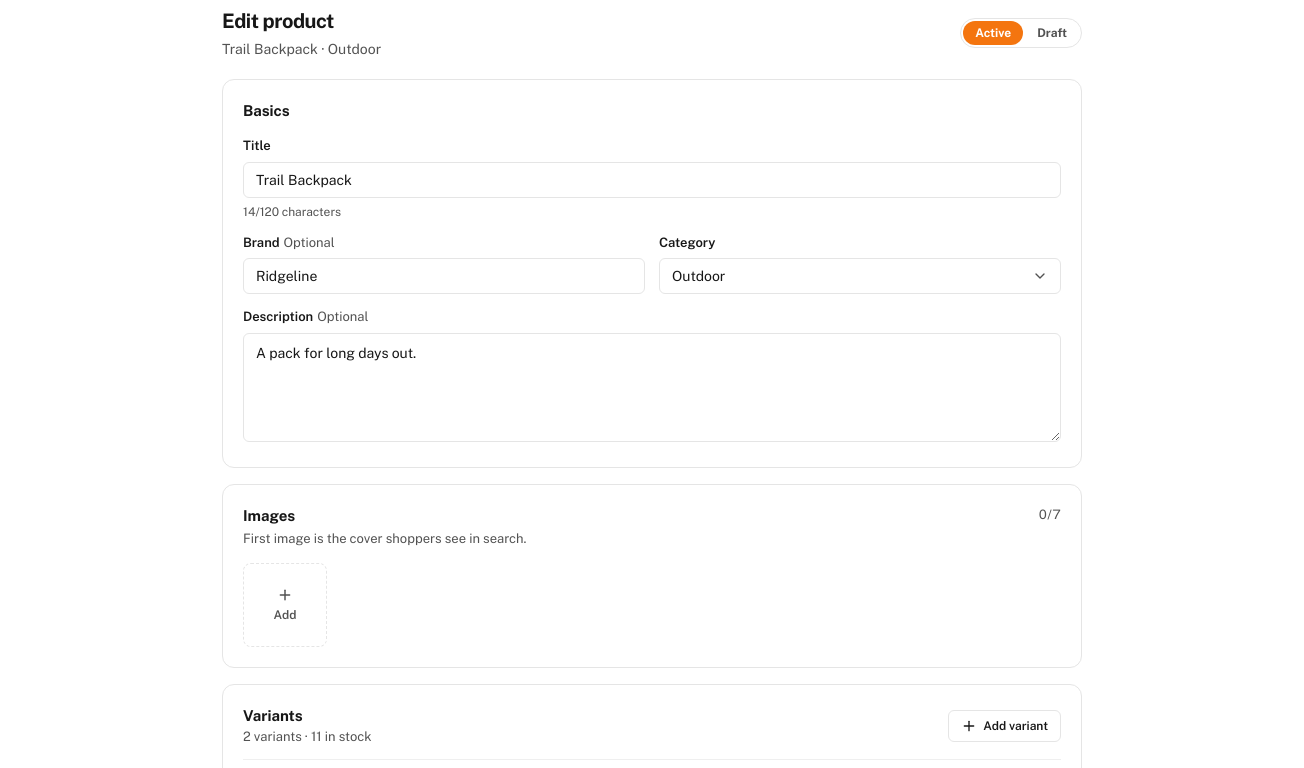
Test: when the product form can be saved › names what is still missing instead of only greying the button out
Clear the field labelled "Title". click: (652, 180)
box: [243, 162, 1061, 198]
(page scrolled)
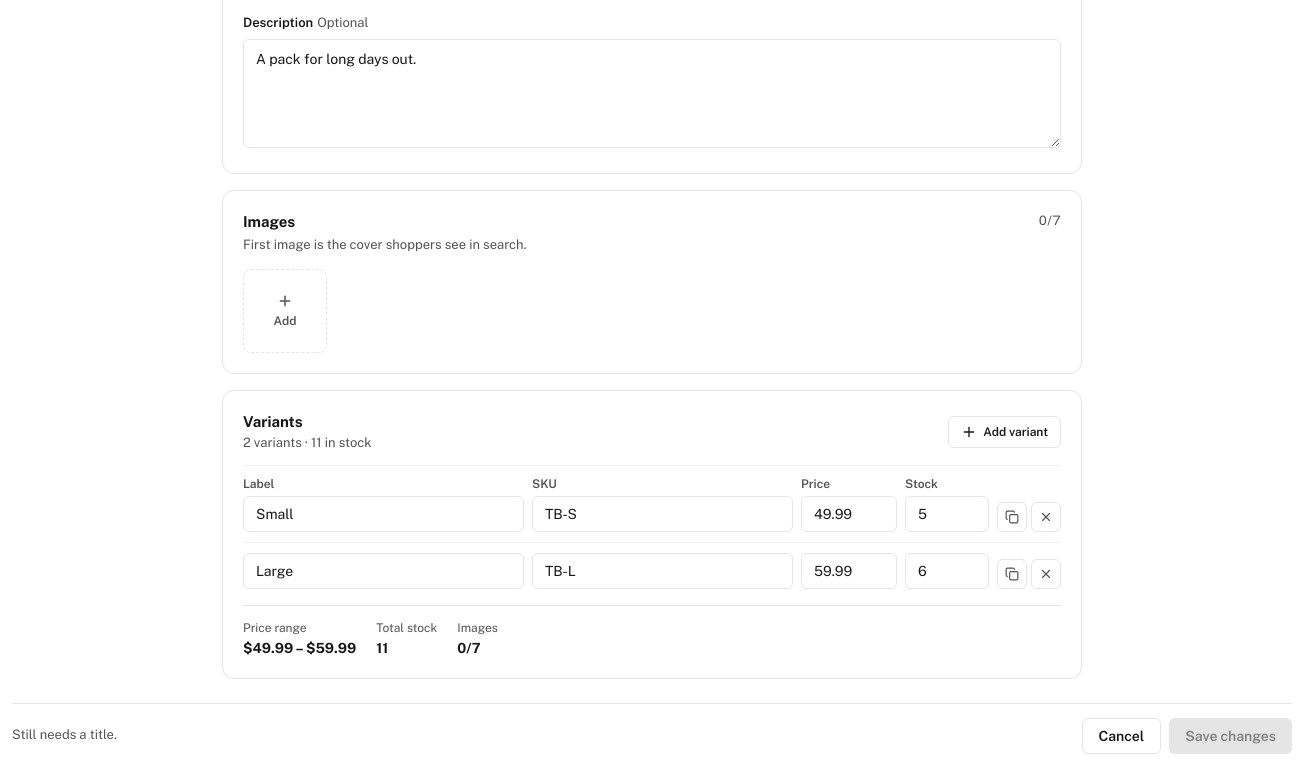
Clear the number field named "Variant 1 price". click: (849, 514)
box: [801, 496, 897, 532]
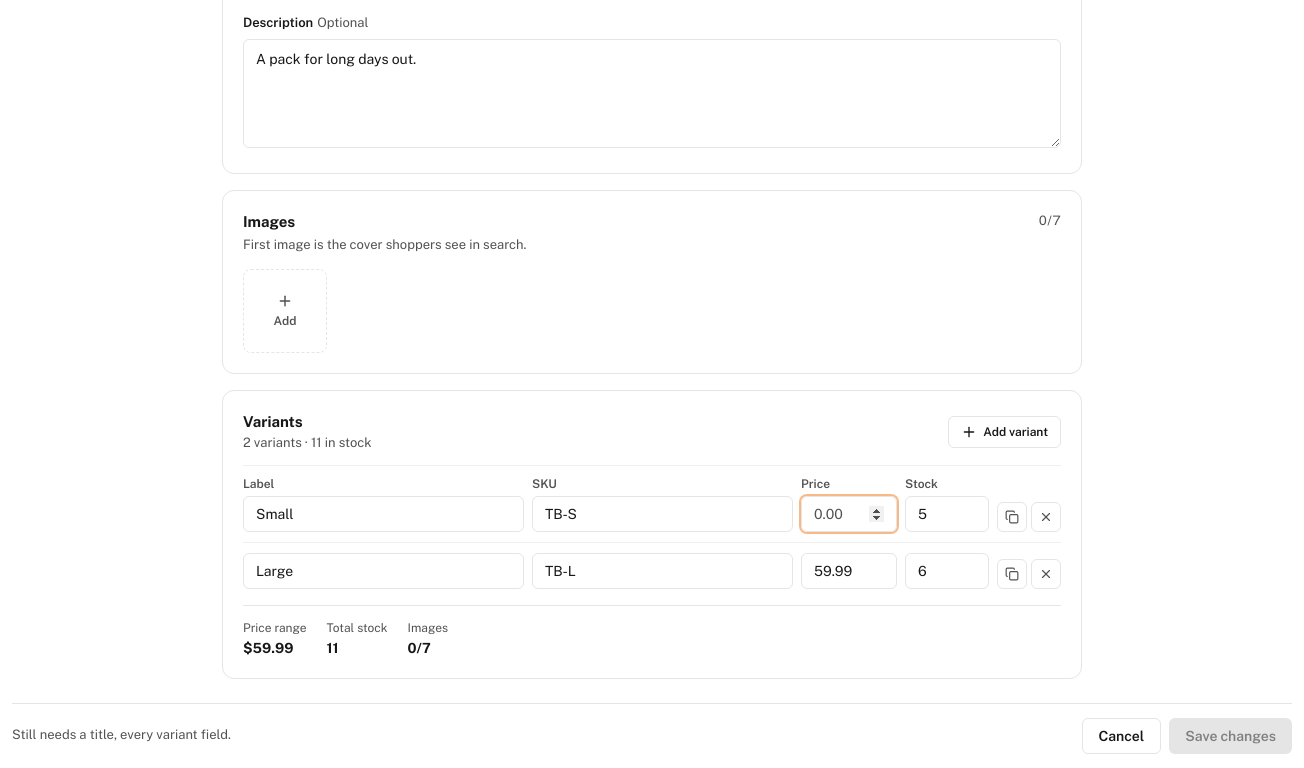
Check: the button "Save changes" is disabled, box [1169, 718, 1292, 754]
Check: the text "Still needs a title, every variant field." is shown, box [12, 727, 231, 742]
